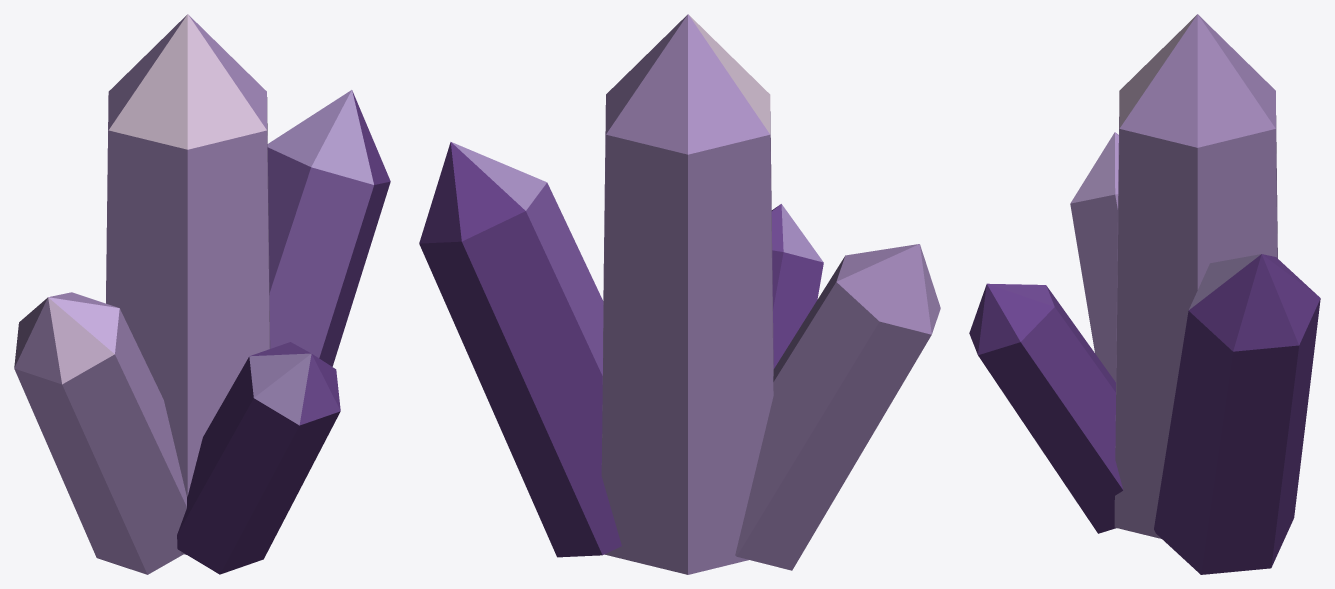
The model's file is item_gem_amethyst.glb.
3 renders of one model, left to right at view 1: azimuth 30°, elevation 25°; view 2: azimuth 150°, elevation 25°; view 3: azimuth 270°, elevation 25°, orthographic. The views are drawn at different scales.
Parts seen in each view (by area): view 1: item_gem_amethyst_gloss; view 2: item_gem_amethyst_gloss; view 3: item_gem_amethyst_gloss.
Part boxes in pixels (x1=…): item_gem_amethyst_gloss: x1=14, y1=14, x2=390, y2=574; item_gem_amethyst_gloss: x1=419, y1=14, x2=940, y2=574; item_gem_amethyst_gloss: x1=969, y1=14, x2=1320, y2=574.
Size of the model in its own units: 0.3026 by 0.3526 by 0.2196.
